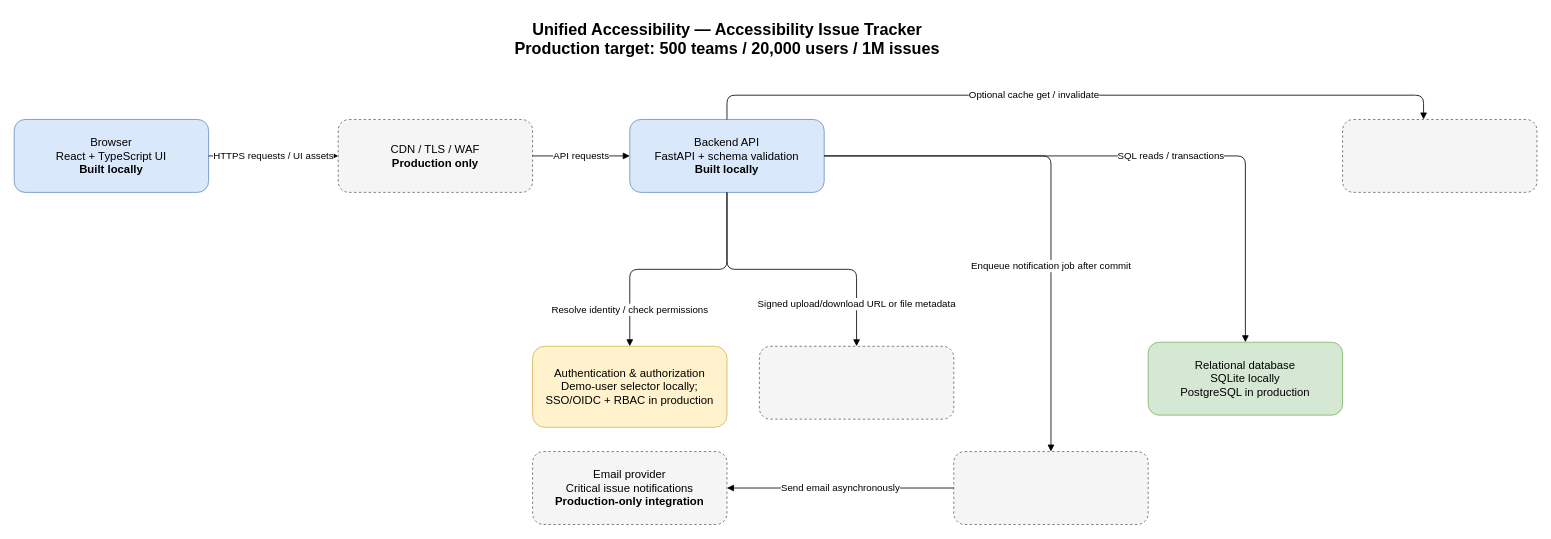
The diagram is 1551 pixels wide and 539 high, and some of its shapes have lost their labels. The centre of each missing label's shape, as x and y in pixels:
Cache (e.g. Redis) Optional read caching / rate limits Production only: [1439,155]
Job queue + worker Async email, audit exports Production only: [1050,487]
Object storage Issue screenshots Production only if attachments added: [856,382]
